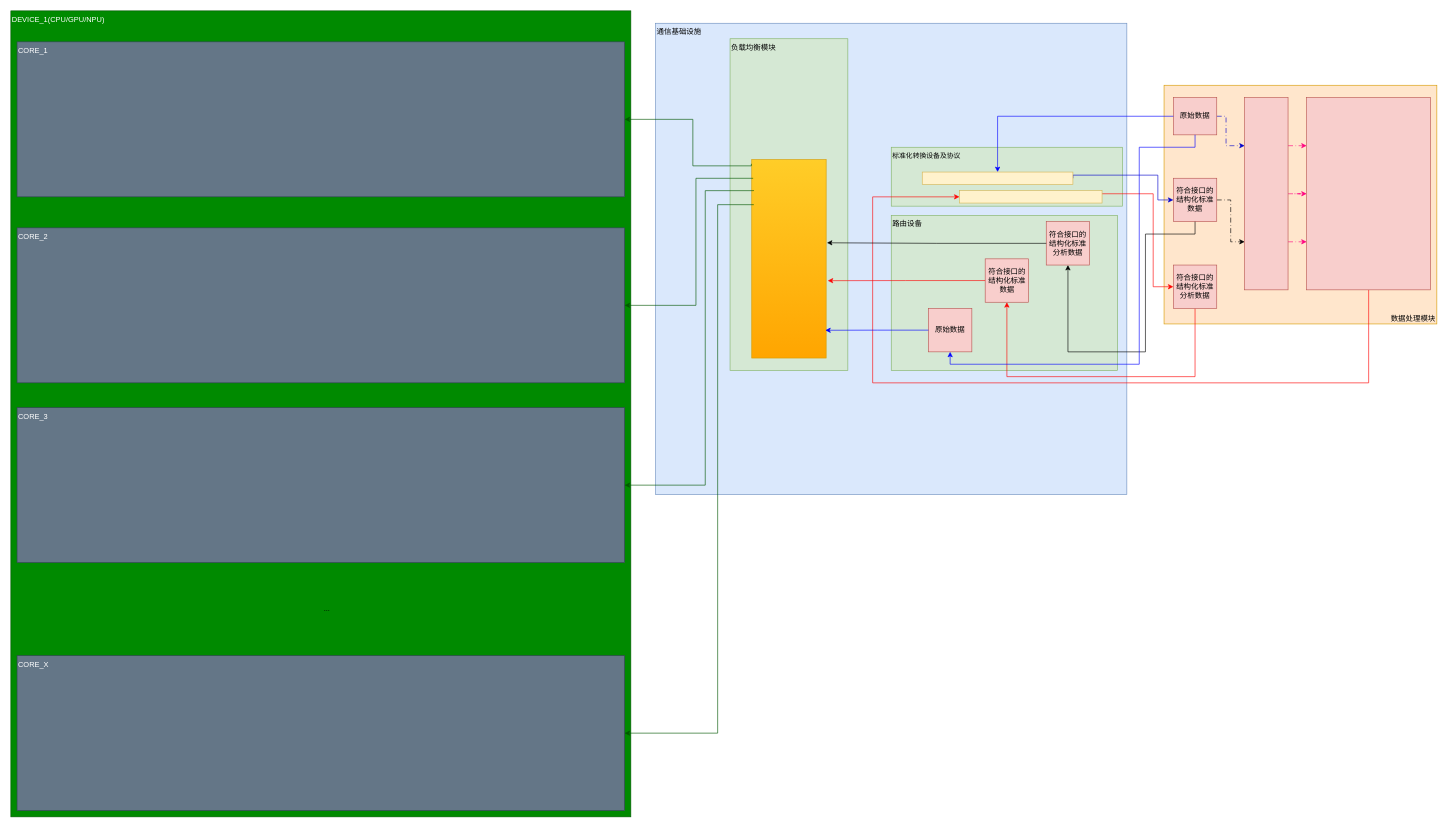
The diagram is 1448 pixels wide and 828 high, and some of its shapes have lost their labels. Here are the shapes that lost their labels. From the top down, the centre of each, then its label:
At (997,177): "原始数据标准化子块".
At (1030,196): "分析标准化子块".
At (1266,193): "快速数据通道".
At (1368,193): "数据统计及分析模型".
At (788,258): "并行逻辑判断算法（Parallel Logic Determination Algorithm，PLDA ）".
